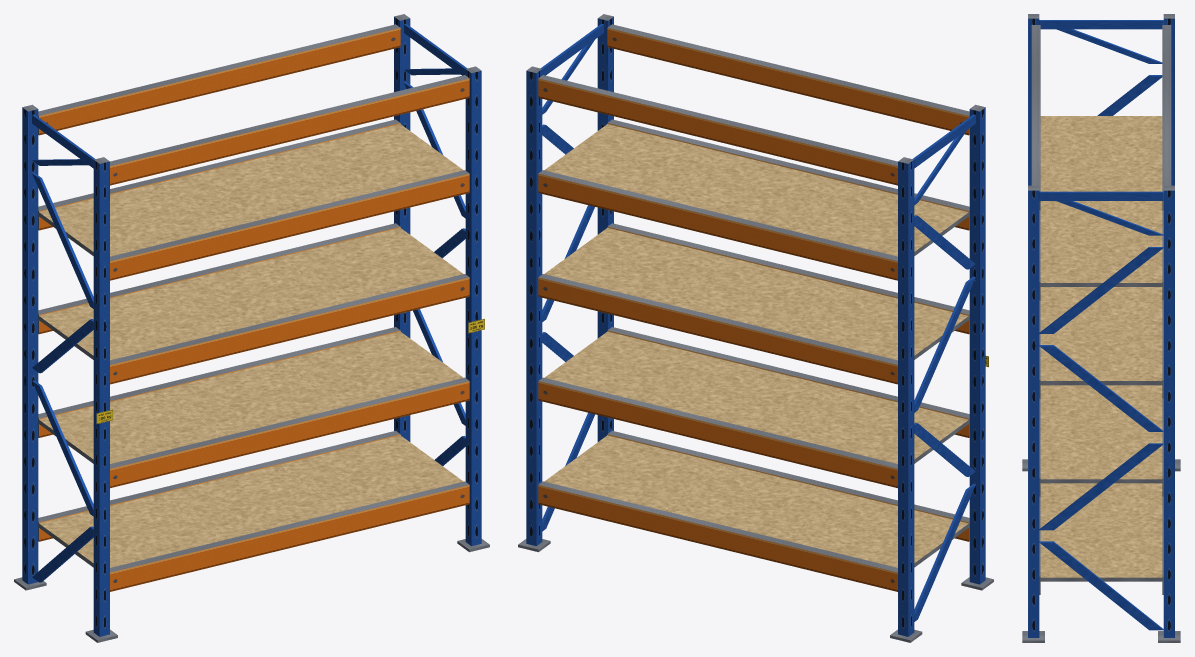
The model's file is warehouse_rack.obj.
The picture shows the model from 3 angles, left to right: view 1: azimuth 30°, elevation 25°; view 2: azimuth 150°, elevation 25°; view 3: azimuth 270°, elevation 25°; orthographic projection. The views are drawn at different scales.
Visible parts, largest first — view 1: deck, beam, upright, steel, brace; view 2: deck, beam, upright, steel, brace; view 3: deck, upright, brace, steel.
Part boxes in pixels (box(x1,y1,x2,y2)): deck: box(39, 124, 463, 567); beam: box(39, 28, 469, 591); upright: box(22, 17, 481, 636); steel: box(14, 14, 489, 642); brace: box(32, 23, 467, 582); deck: box(544, 124, 968, 567); beam: box(538, 28, 968, 591); upright: box(526, 17, 985, 636); steel: box(518, 14, 993, 642); brace: box(540, 23, 975, 621); deck: box(1040, 116, 1162, 577); upright: box(1028, 18, 1174, 637); brace: box(1039, 20, 1163, 630); steel: box(1022, 14, 1180, 642).
Bounding box in the file's own units: 1.9 × 2.2 × 0.7.
6 materials, 6 textured.
